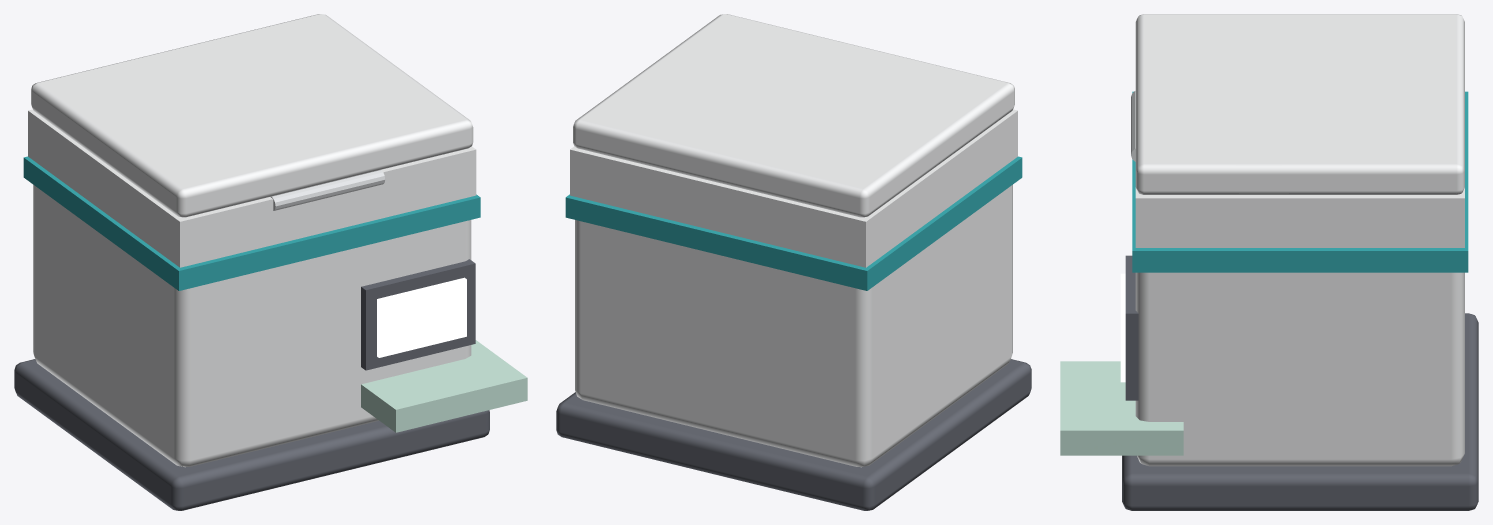
3 views of the same model, side by side, from view 1: azimuth 30°, elevation 25°; view 2: azimuth 150°, elevation 25°; view 3: azimuth 270°, elevation 25° (orthographic). The views are drawn at different scales.
Parts seen in each view (by area): view 1: lens-edger, lid/white, lid/steel; view 2: lens-edger, lid/white; view 3: lens-edger, lid/white.
Boxes of the visible parts, box(x1,y1,x2,y2) form: lens-edger: box(14, 109, 527, 510); lid/white: box(31, 14, 473, 217); lid/steel: box(270, 170, 385, 210); lens-edger: box(556, 109, 1031, 510); lid/white: box(573, 14, 1014, 217); lens-edger: box(1060, 91, 1478, 510); lid/white: box(1135, 14, 1464, 194).
Size of the model in its own units: 0.59 by 0.55 by 0.61.
